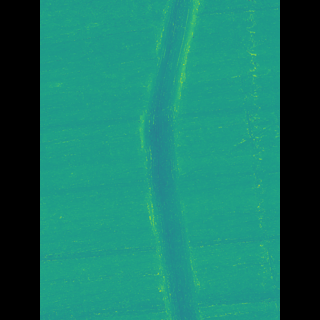Loch: (142, 0, 194, 320)
